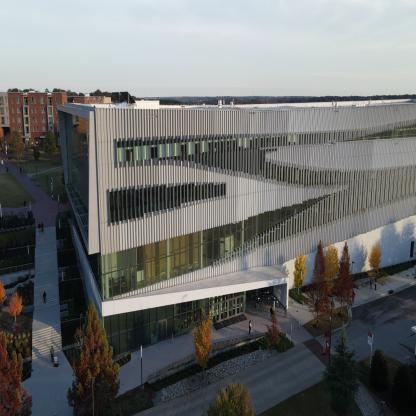Hunt Library: (36, 79, 415, 364)
